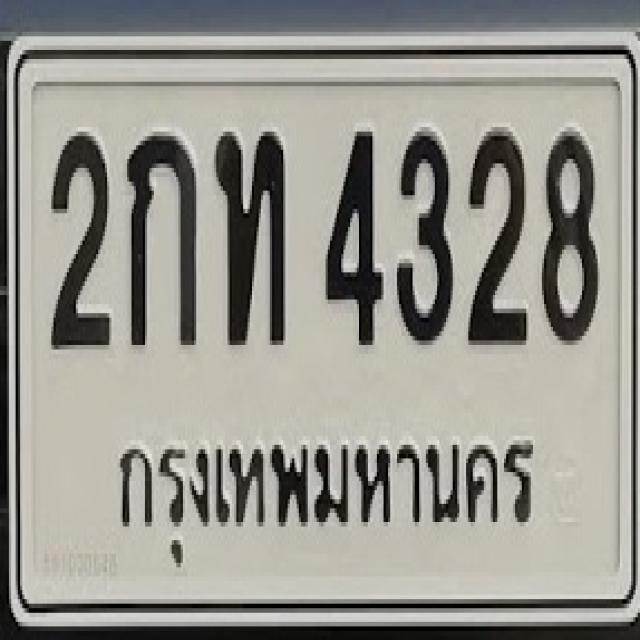license_plate: (10, 37, 640, 640)
